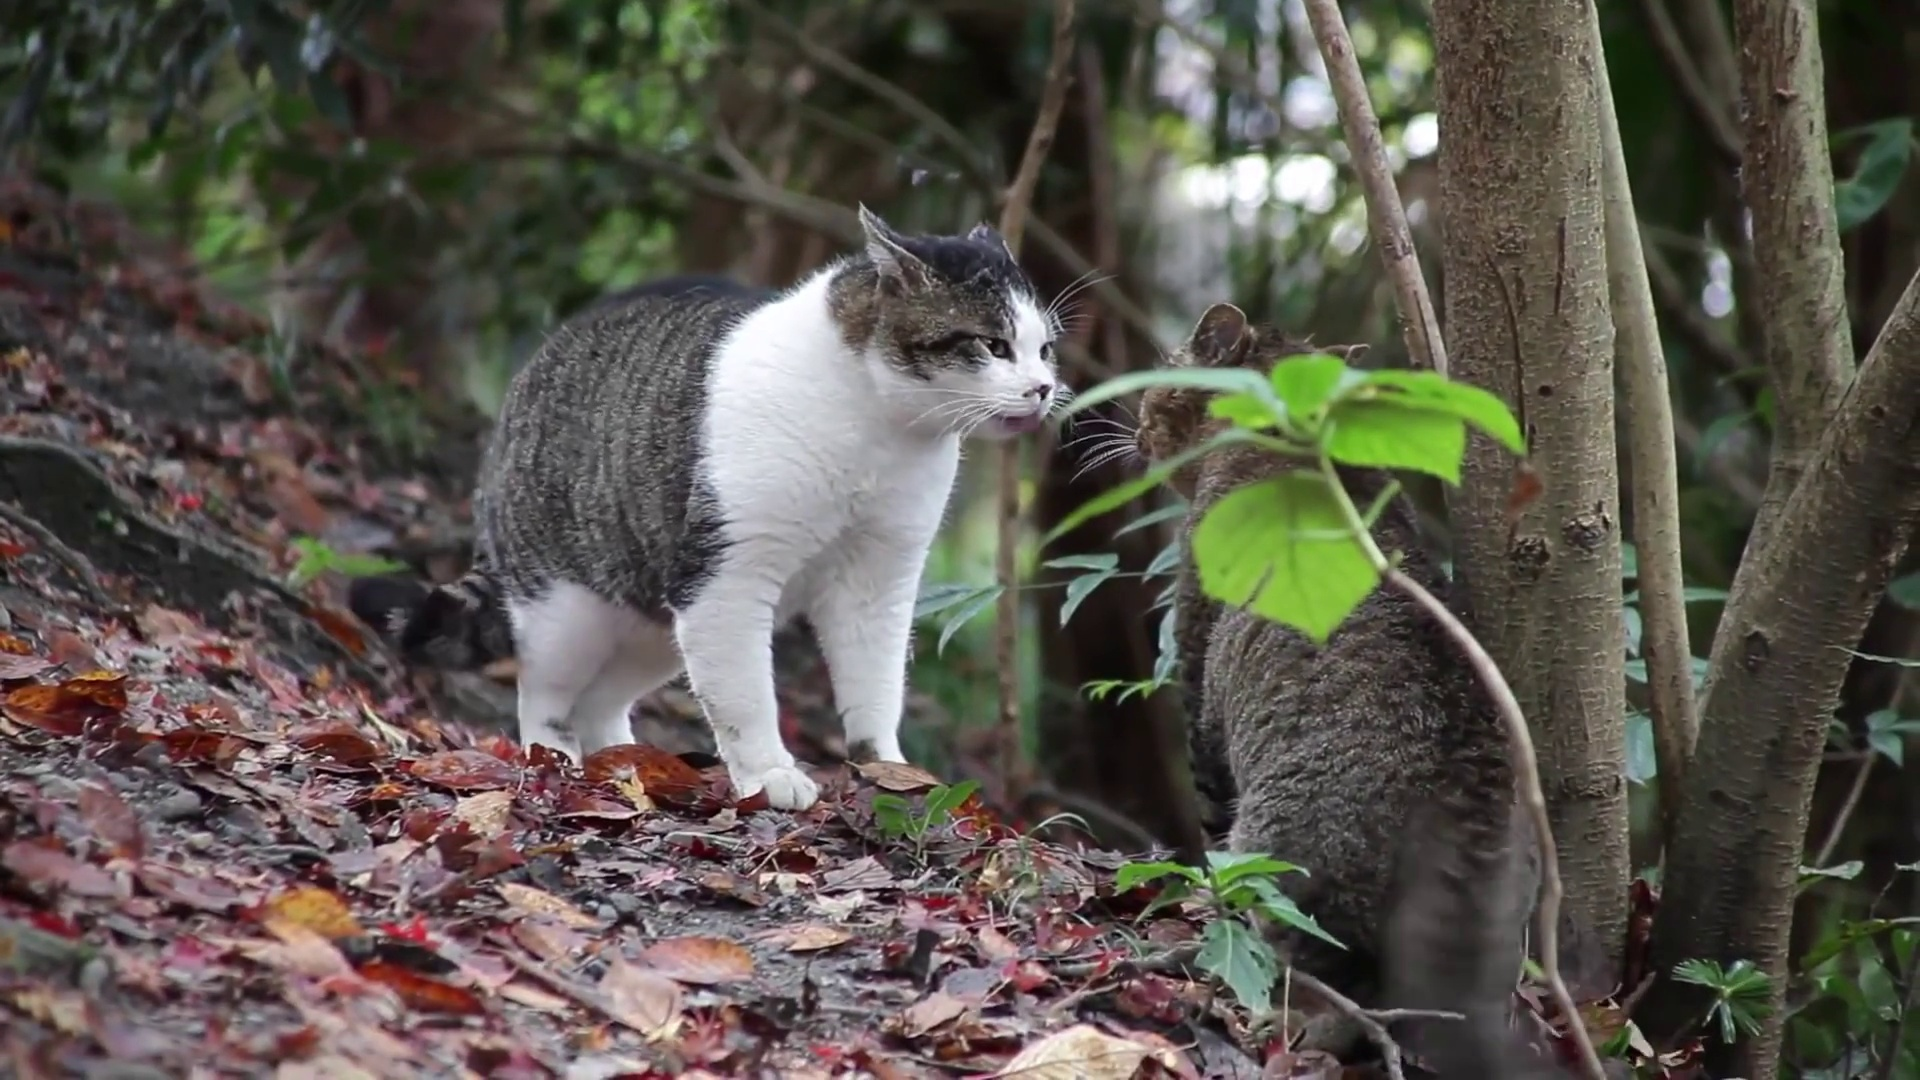black-white: (386, 199, 1055, 814)
pure black: (1130, 301, 1544, 1080)
